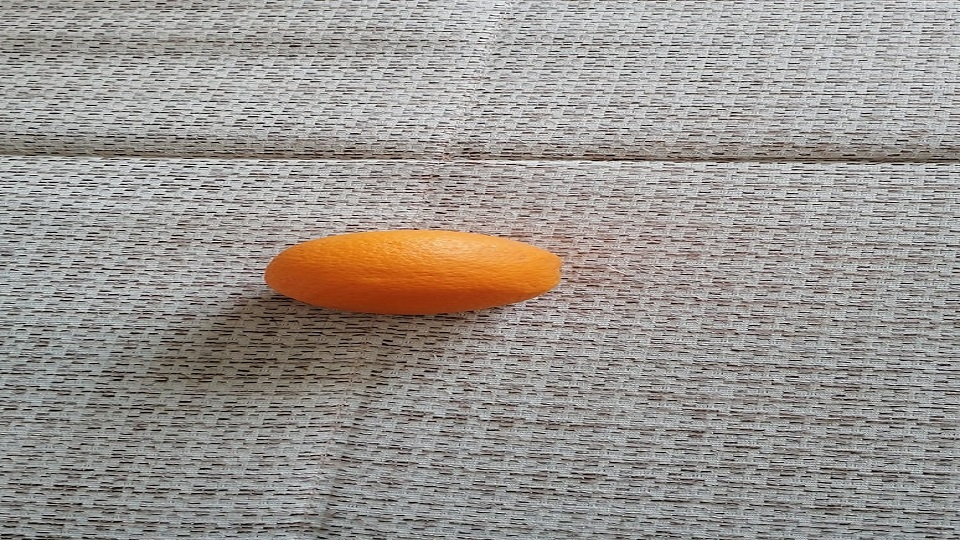portakal: (264, 229, 563, 317)
